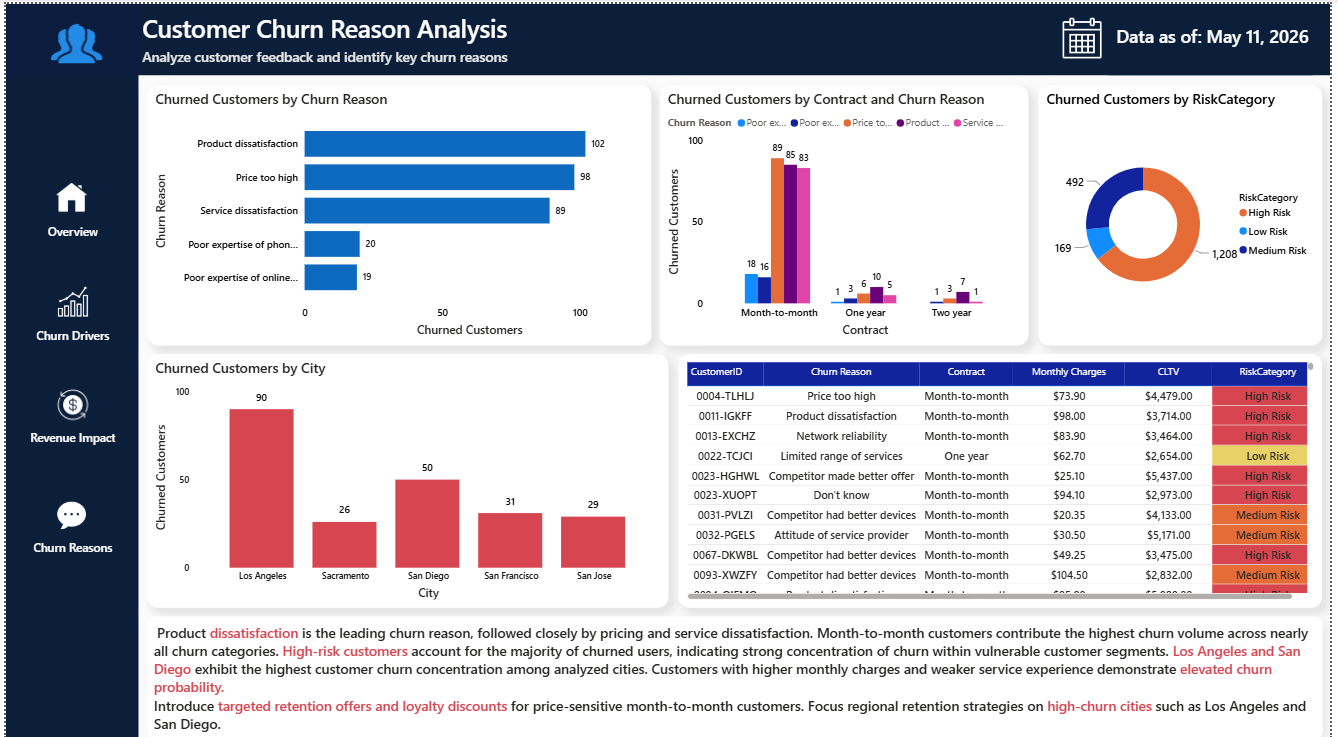

Layout of this report page (visuals, bound fields, positions):
{"tool":"powerbi","page":{"name":"Customer Churn Reason Analysis","canvas":[1800,1000],"ordinal":3},"visuals":[{"type":"shape","box":[0,0,1800.3,96.8],"z":0},{"type":"textbox","title":" Customer Churn Reason Analysis","box":[180,10.2,937.5,74.7],"z":1000},{"type":"shape","box":[0,0,180,1000.3],"z":2000},{"type":"textbox","title":"Data as of: May 11, 2026","box":[1498,27.2,276.8,69.6],"z":3000},{"type":"image","box":[1389.3,18.7,146.1,57.7],"z":4000},{"type":"clusteredBarChart","fields":{"Category":["churn_data.Churn Reason"],"Y":["churn_data.Churned Customers"]},"box":[191.9,110.4,684.4,353.3],"z":5000},{"type":"clusteredColumnChart","fields":{"Category":["churn_data.Contract"],"Y":["churn_data.Churned Customers"],"Series":["churn_data.Churn Reason"]},"box":[888.3,110.4,501,353.3],"z":6000},{"type":"lineStackedColumnComboChart","fields":{"Category":["churn_data.City","churn_data.State"],"Y":["churn_data.Churned Customers"]},"box":[191.9,475.5,708.2,344.8],"z":7000},{"type":"donutChart","fields":{"Y":["churn_data.Churned Customers"],"Series":["churn_data.RiskCategory"]},"box":[1402.9,110.4,385.5,353.3],"z":8000},{"type":"tableEx","fields":{"Values":["churn_data.CustomerID","churn_data.Churn Reason","churn_data.Contract","churn_data.Monthly Charges","churn_data.CLTV","churn_data.RiskCategory","select"]},"box":[913.7,475.5,874.7,344.8],"z":9000},{"type":"textbox","box":[191.9,832.2,1596.5,168.1],"z":10000},{"type":"actionButton","box":[25.5,219.1,130.8,103.6],"z":11000},{"type":"actionButton","box":[25.5,648.8,130.8,103.6],"z":12000},{"type":"actionButton","box":[25.5,499.3,130.8,103.6],"z":13000},{"type":"actionButton","box":[25.5,360.1,130.8,103.6],"z":14000},{"type":"image","box":[67.9,203.8,42.5,118.9],"z":15000},{"type":"image","box":[69.6,344.8,42.5,117.2],"z":16000},{"type":"image","box":[69.6,485.7,42.5,117.2],"z":17000},{"type":"image","box":[67.9,635.2,42.5,117.2],"z":18000},{"type":"shape","box":[1.7,0,180,96.8],"z":19000},{"type":"image","box":[61.1,13.6,69.6,83.2],"z":20000}]}

Visuals, with their boxes in screenshot pixels (x1, y1, x2, y2), scaled from the page's 1800x1000 canvas onto the 1338x737 screenshot:
shape: <box>0,0,1337,71</box>
" Customer Churn Reason Analysis" textbox: <box>134,8,831,63</box>
shape: <box>0,0,134,736</box>
"Data as of: May 11, 2026" textbox: <box>1114,20,1319,71</box>
image: <box>1033,14,1141,56</box>
clusteredBarChart - churn_data.Churn Reason x churn_data.Churned Customers: <box>143,81,651,342</box>
clusteredColumnChart - churn_data.Contract x churn_data.Churned Customers: <box>660,81,1033,342</box>
lineStackedColumnComboChart - churn_data.City x churn_data.State: <box>143,350,669,605</box>
donutChart - churn_data.Churned Customers x churn_data.RiskCategory: <box>1043,81,1329,342</box>
tableEx - churn_data.CustomerID x churn_data.Churn Reason: <box>679,350,1329,605</box>
textbox: <box>143,613,1329,736</box>
actionButton: <box>19,161,116,238</box>
actionButton: <box>19,478,116,555</box>
actionButton: <box>19,368,116,444</box>
actionButton: <box>19,265,116,342</box>
image: <box>50,150,82,238</box>
image: <box>52,254,83,340</box>
image: <box>52,358,83,444</box>
image: <box>50,468,82,555</box>
shape: <box>1,0,135,71</box>
image: <box>45,10,97,71</box>
